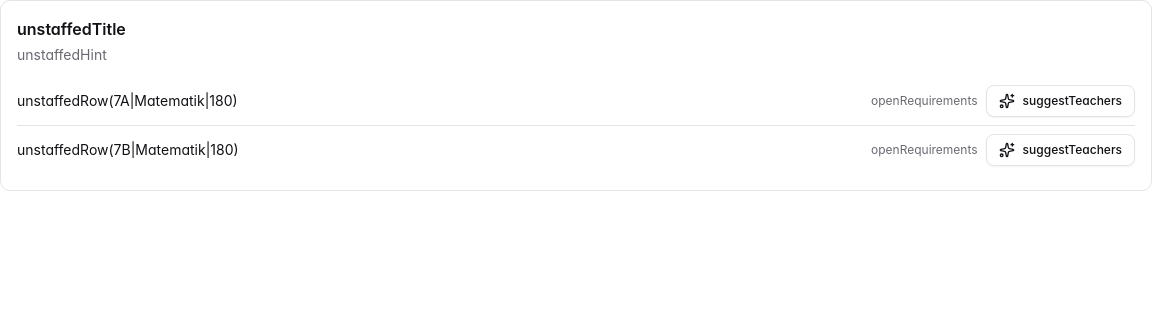
it: UnstaffedPanel › opens one row's suggestions, assigns in one click, and says WARN in the panel, naming the row, with focus on it
Click the button "suggestTeachers" in the row of "unstaffedRow(7A|Matematik|180)". click: (1060, 101)
box: [986, 85, 1135, 117]
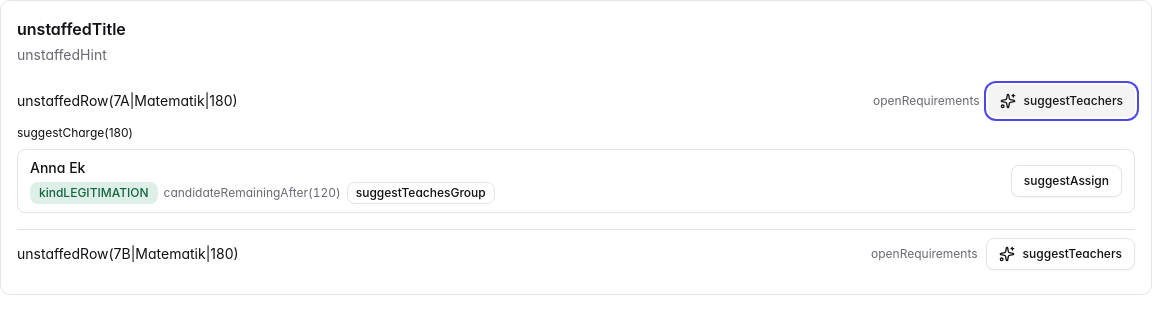
Result: the button "suggestTeachers" in the row of "unstaffedRow(7A|Matematik|180)" is expanded at [988, 85, 1135, 117]
Click the button with aria-label "suggestAssignNamed(Anna Ek)". click: (1066, 181)
box: [1011, 165, 1122, 197]
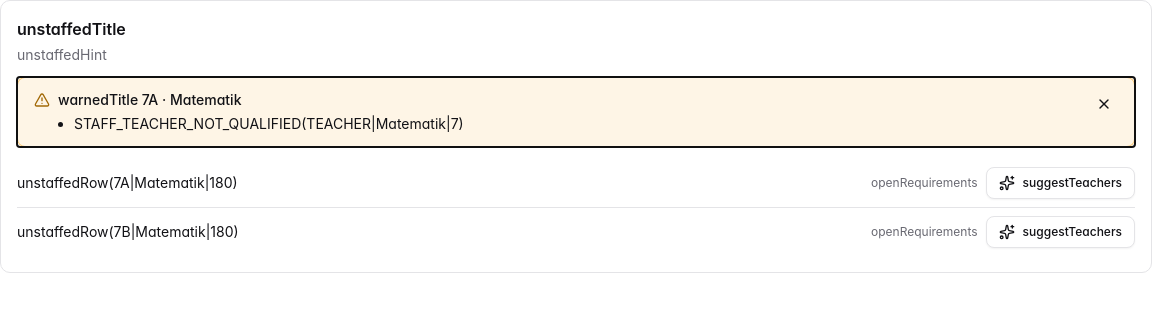
Result: the text "STAFF_TEACHER_NOT_QUALIFIED(TEACHER|Matematik|7)" shows "warnedTitle 7A · Matematik" at [17, 77, 1135, 147]
Click the button named "warnedDismiss". click: (1104, 104)
box: [1090, 90, 1118, 118]
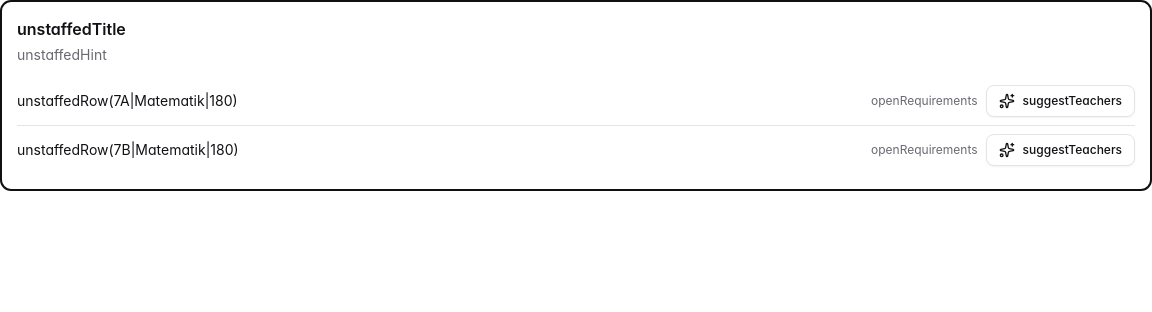
Result: the text "warnedTitle 7A · Matematik" is gone
